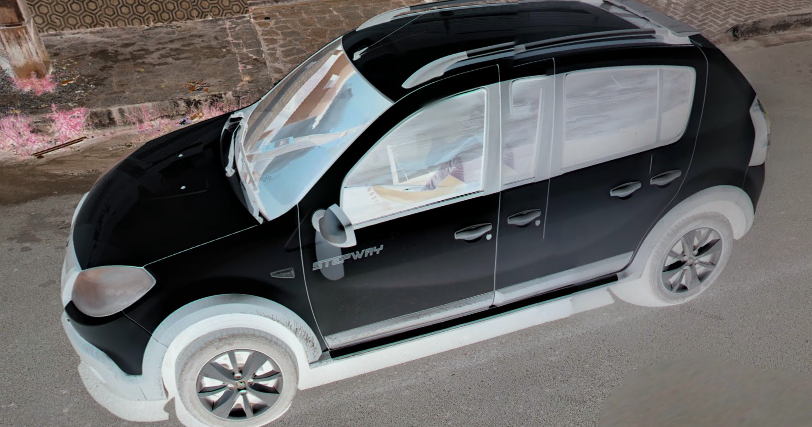car: (65, 4, 771, 424)
